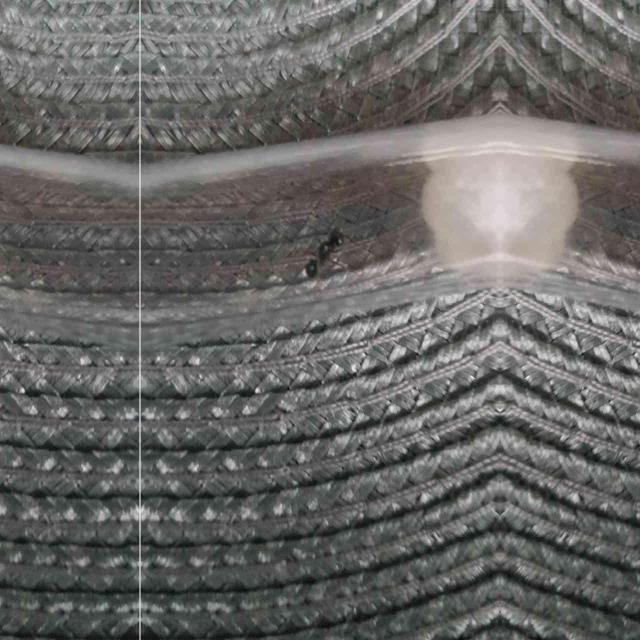Lasius: (300, 225, 342, 281)
